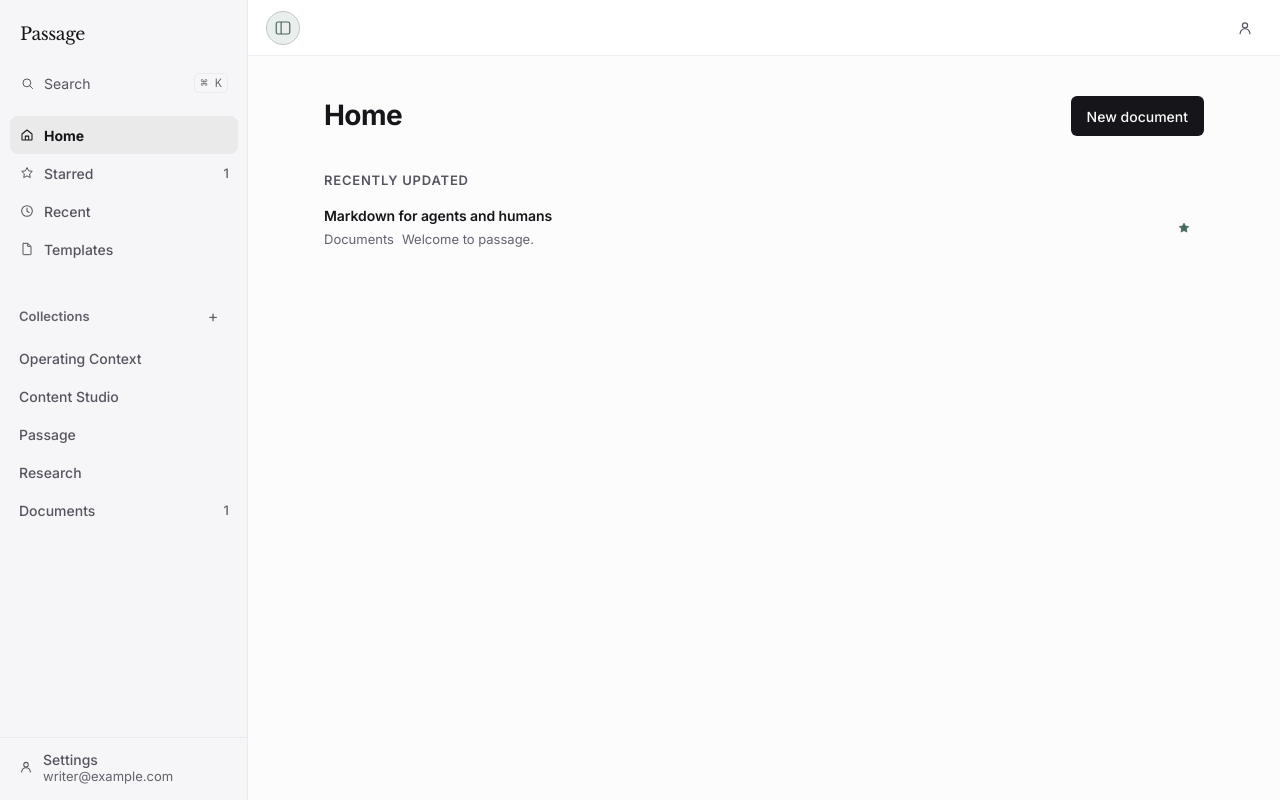
Write (editor) › switches to edit mode to reveal the Markdown textarea
Click the button with class "workspaceDocumentOpen".
click(438, 216)  # box [324,194,1168,262]
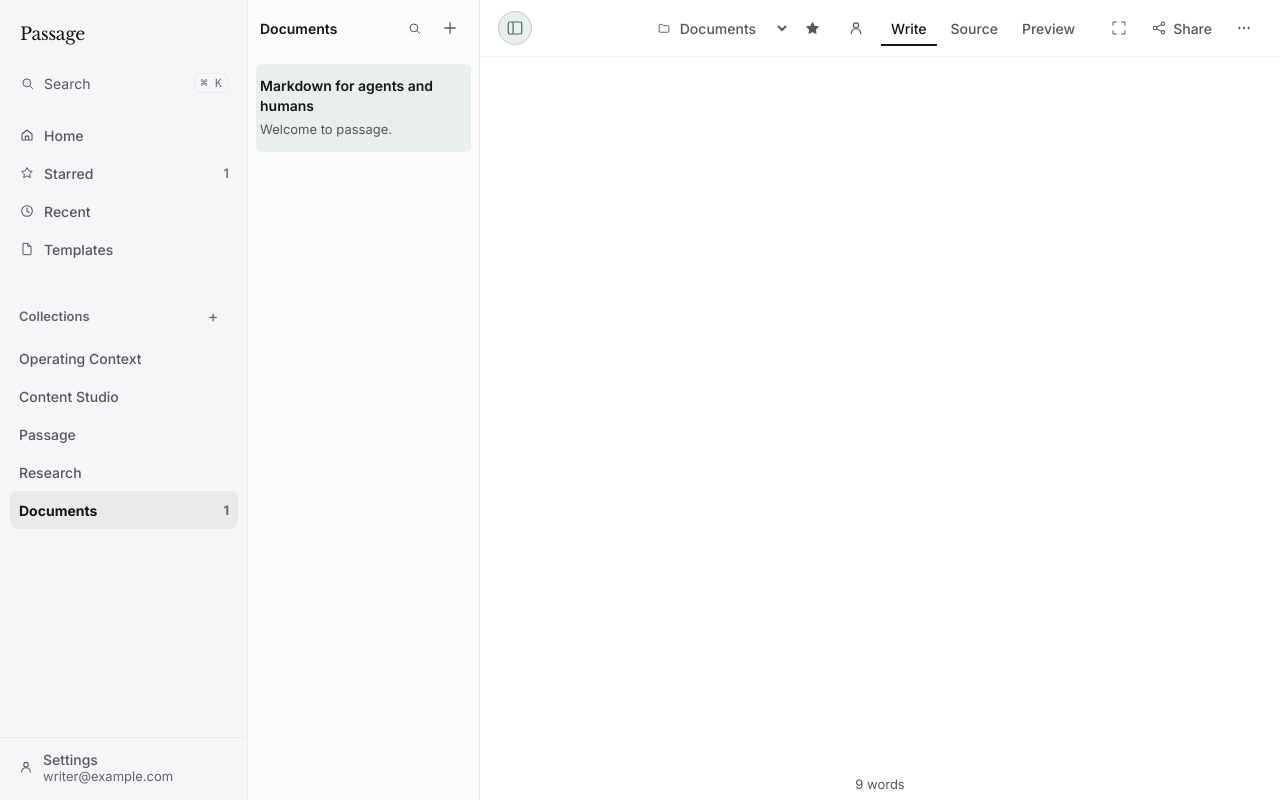
Click the button "Source".
click(974, 28)  # box [941,10,1008,46]
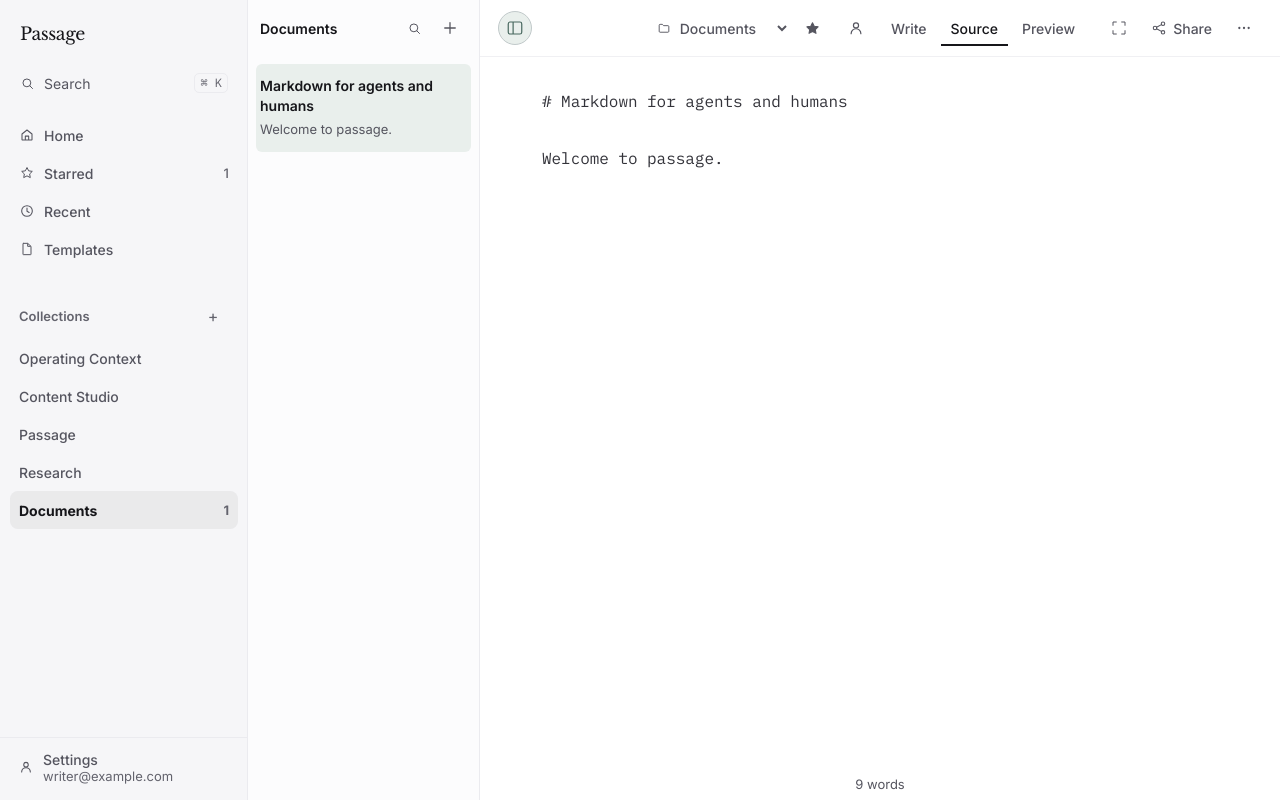
Expected: the text box named "Markdown editor" is shown, [540,85,1220,565]
